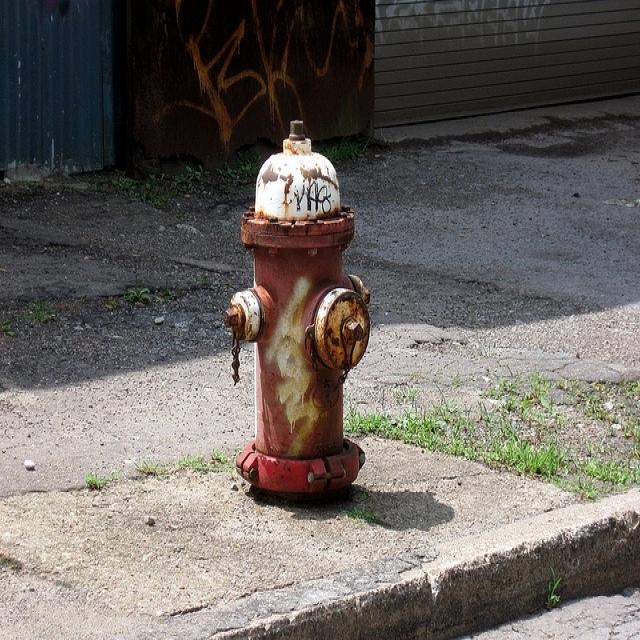fire_hydrant: (207, 122, 389, 505)
